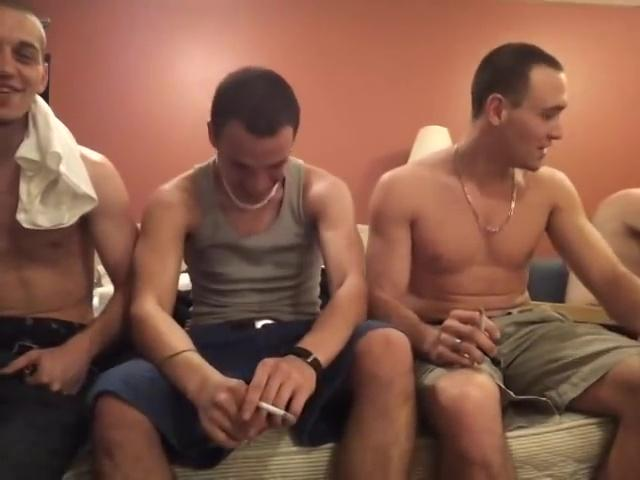cigarette: (254, 397, 299, 424), (479, 304, 486, 334)
